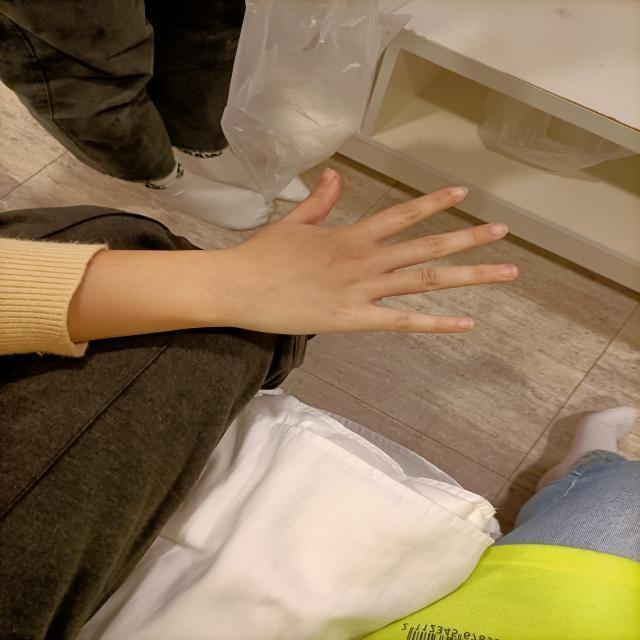hand: (172, 154, 537, 356)
